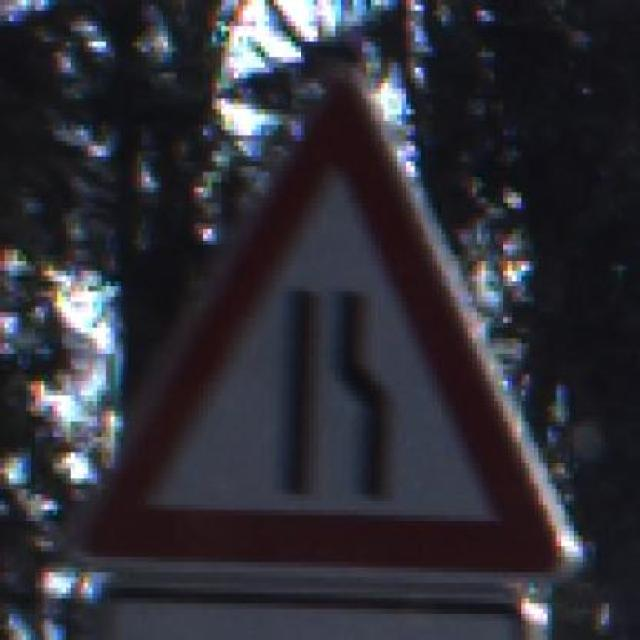-Road narrows on right: (62, 62, 592, 593)
